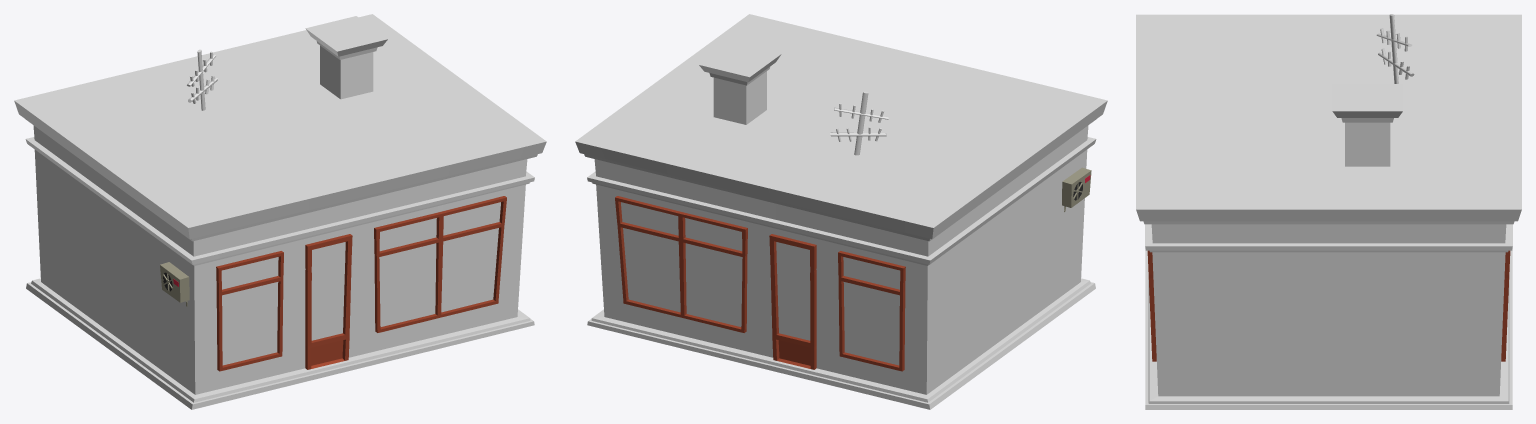
The model's file is Level01_V02.fbx.
3 renders of one model, left to right at view 1: azimuth 30°, elevation 25°; view 2: azimuth 150°, elevation 25°; view 3: azimuth 270°, elevation 25°, orthographic. The views are drawn at different scales.
Parts seen in each view (by area): view 1: Level01_Roof, Level01_Wall, Level01_Window, Level01_WindowFrame, Klima; view 2: Level01_Roof, Level01_Wall, Level01_Window, Level01_WindowFrame, Klima; view 3: Level01_Roof, Level01_Wall, Level01_WindowFrame.
Part boxes in pixels (x1=…): Level01_Roof: x1=14, y1=14, x2=546, y2=409; Level01_Wall: x1=33, y1=45, x2=527, y2=394; Level01_Window: x1=221, y1=202, x2=500, y2=365; Level01_WindowFrame: x1=216, y1=196, x2=506, y2=371; Klima: x1=160, y1=262, x2=189, y2=306; Level01_Roof: x1=575, y1=14, x2=1107, y2=409; Level01_Wall: x1=594, y1=71, x2=1088, y2=394; Level01_Window: x1=621, y1=202, x2=900, y2=365; Level01_WindowFrame: x1=615, y1=196, x2=905, y2=371; Klima: x1=1062, y1=167, x2=1091, y2=211; Level01_Roof: x1=1136, y1=14, x2=1521, y2=409; Level01_Wall: x1=1151, y1=122, x2=1506, y2=396; Level01_WindowFrame: x1=1147, y1=250, x2=1510, y2=361.
Size of the model in its own units: 278 by 184 by 234.
